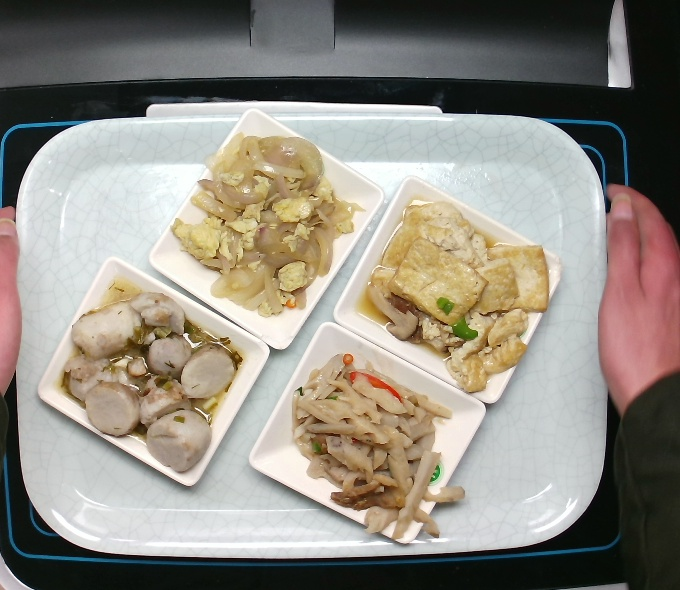wcq-JiaChangDouFu: (362, 194, 559, 399)
wcq-QingChaoOuPian: (283, 345, 470, 545)
wcq-YangCongChaoDan: (166, 127, 369, 321)
wcq-YangYu: (58, 278, 245, 474)
